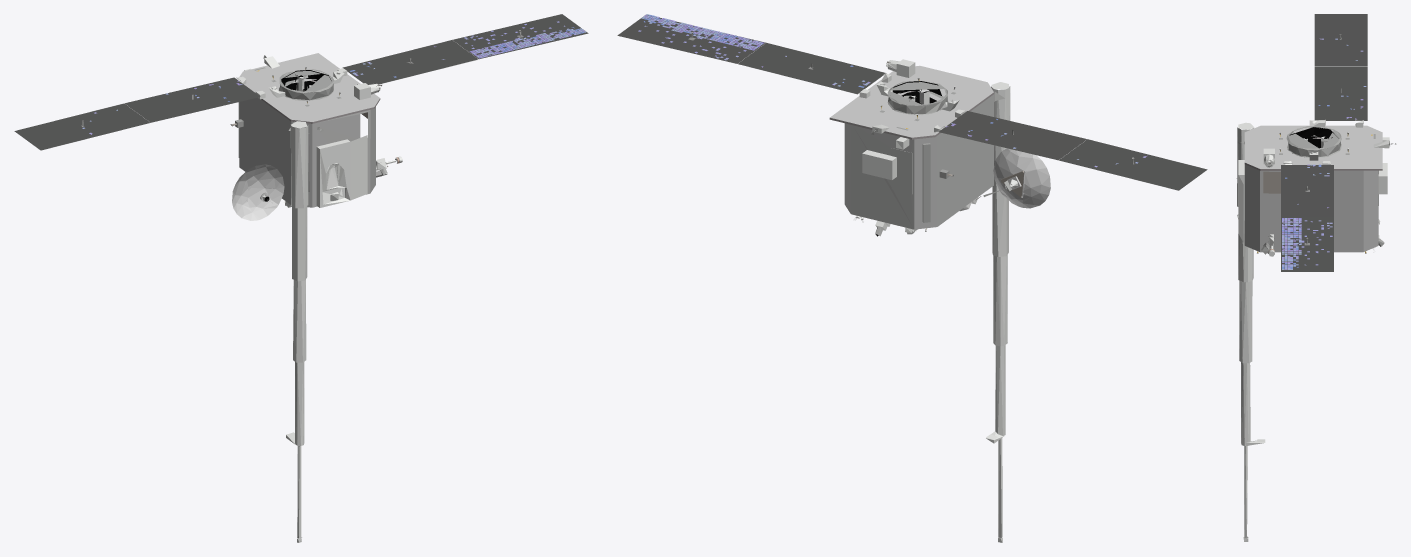
Rendered from stereo-a-preview.glb.
3 views of the same model, side by side, from view 1: azimuth 30°, elevation 25°; view 2: azimuth 150°, elevation 25°; view 3: azimuth 270°, elevation 25° (orthographic). The views are drawn at different scales.
Visible parts, largest first — view 1: Layer_0; view 2: Layer_0; view 3: Layer_0.
Part boxes in pixels (x1,y1,x2,y2): Layer_0: (14,14,588,542); Layer_0: (617,14,1207,542); Layer_0: (1236,14,1396,541).
Size of the model in its own units: 3142 by 2425 by 828.
